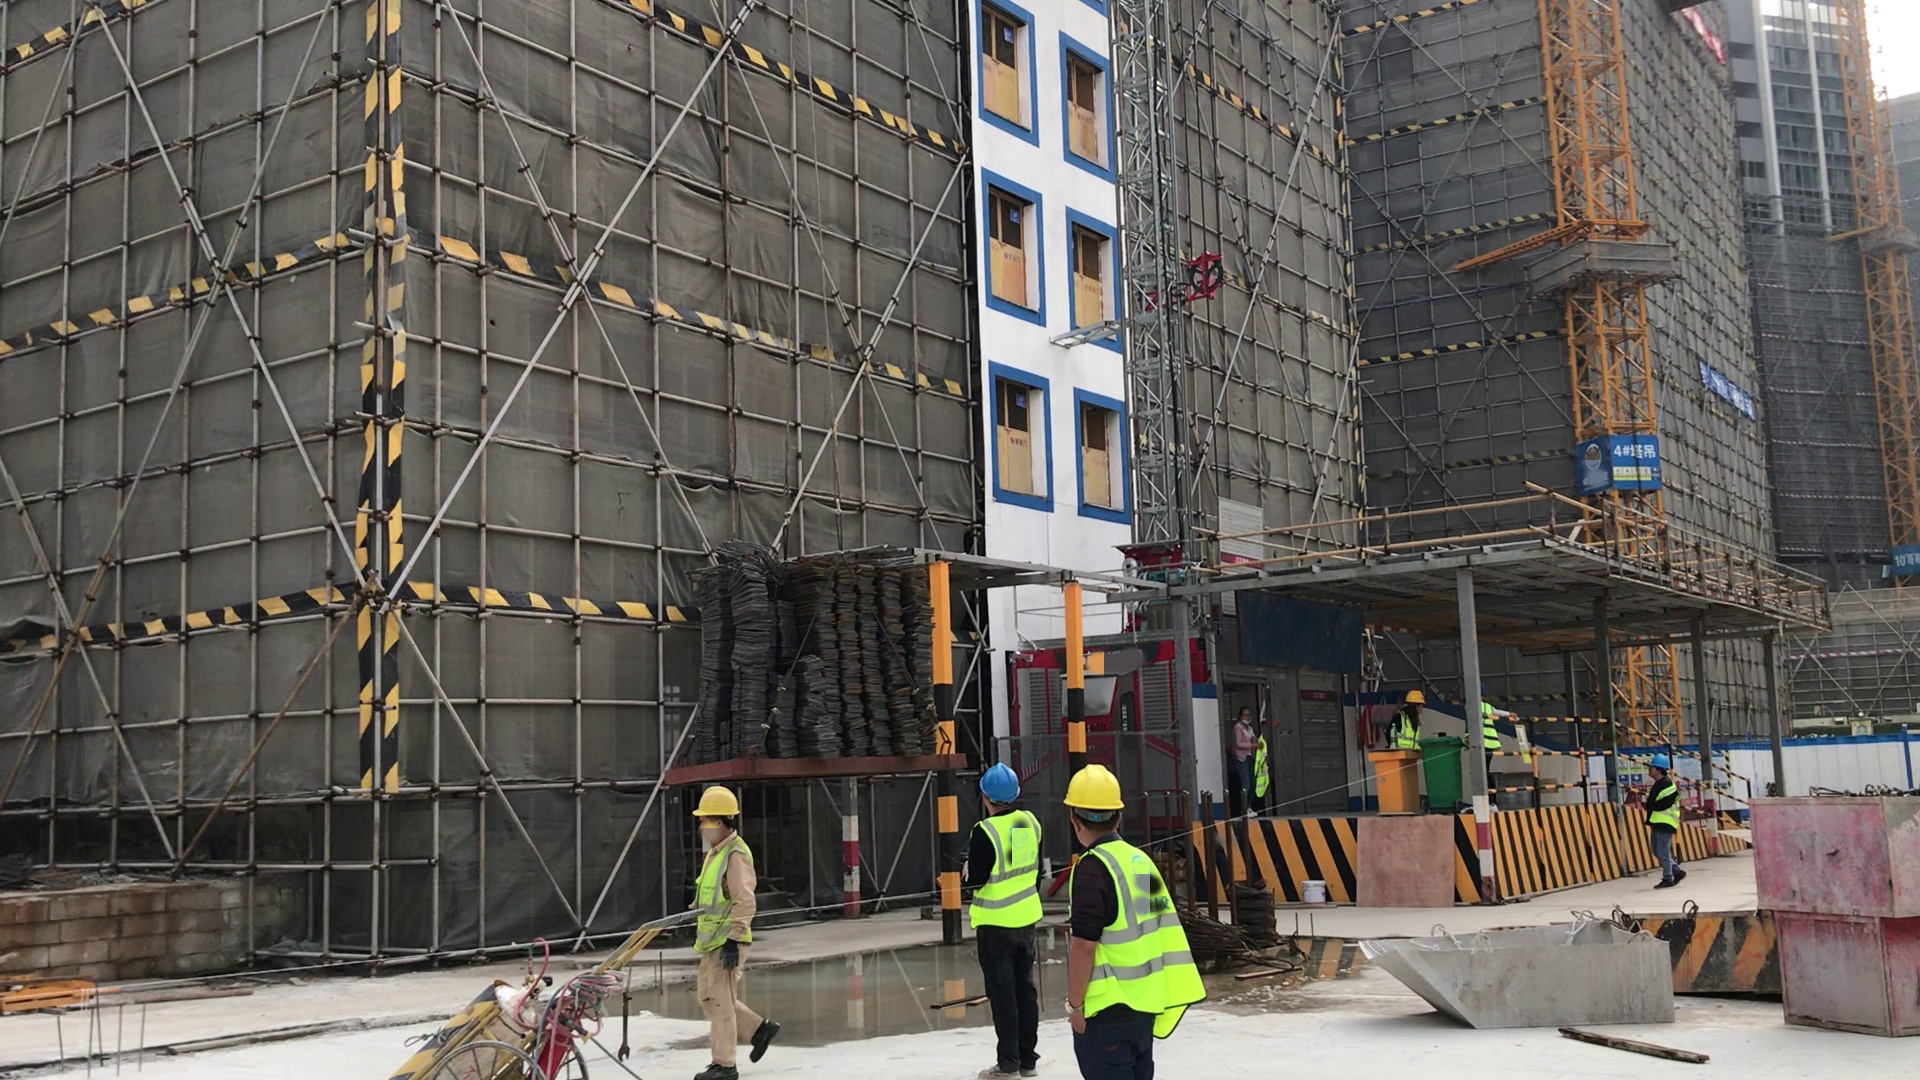fence: (1479, 704, 1756, 838)
handcart: (377, 899, 777, 1080)
helmet: (1062, 758, 1129, 824), (688, 776, 748, 833), (974, 757, 1025, 812), (1396, 683, 1433, 715), (1640, 749, 1679, 779)
hopper: (1350, 901, 1684, 1039)
person: (1043, 753, 1210, 1080), (648, 760, 814, 1080), (952, 750, 1055, 1080), (1632, 735, 1708, 895), (1466, 669, 1523, 795), (1225, 696, 1278, 812), (1378, 664, 1433, 774)
slogan: (1552, 418, 1665, 504), (1681, 345, 1769, 428), (1671, 7, 1735, 64), (1873, 520, 1920, 593)
vest: (1060, 841, 1221, 1043), (962, 814, 1048, 945), (691, 832, 764, 966), (1641, 768, 1698, 845), (1470, 695, 1512, 764), (1244, 726, 1282, 801), (1378, 701, 1430, 751)
